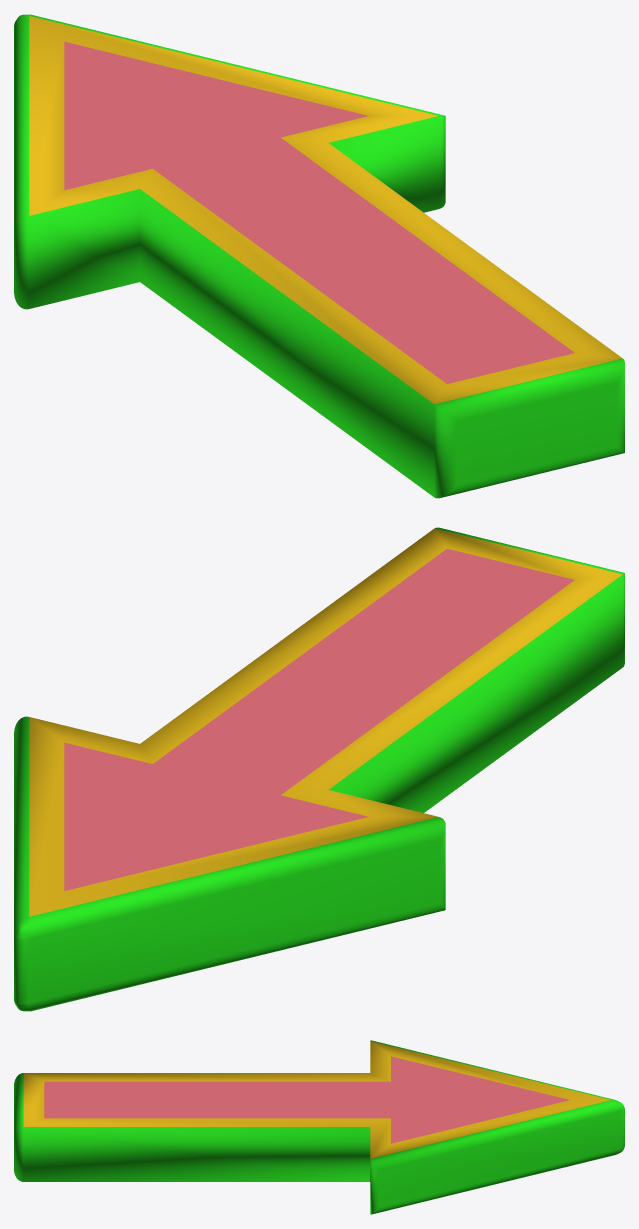
File: arrow.glb
The picture shows the model from 3 angles, top to bottom: view 1: azimuth 30°, elevation 25°; view 2: azimuth 150°, elevation 25°; view 3: azimuth 270°, elevation 25°; orthographic projection. The views are drawn at different scales.
Visible parts, largest first — view 1: Circle; view 2: Circle; view 3: Circle.
Boxes of the visible parts, x1=… form: Circle: x1=14, y1=14, x2=624, y2=498; Circle: x1=14, y1=527, x2=624, y2=1011; Circle: x1=14, y1=1040, x2=624, y2=1214.
Size of the model in its own units: 0.6162 by 0.1277 by 1.29.
